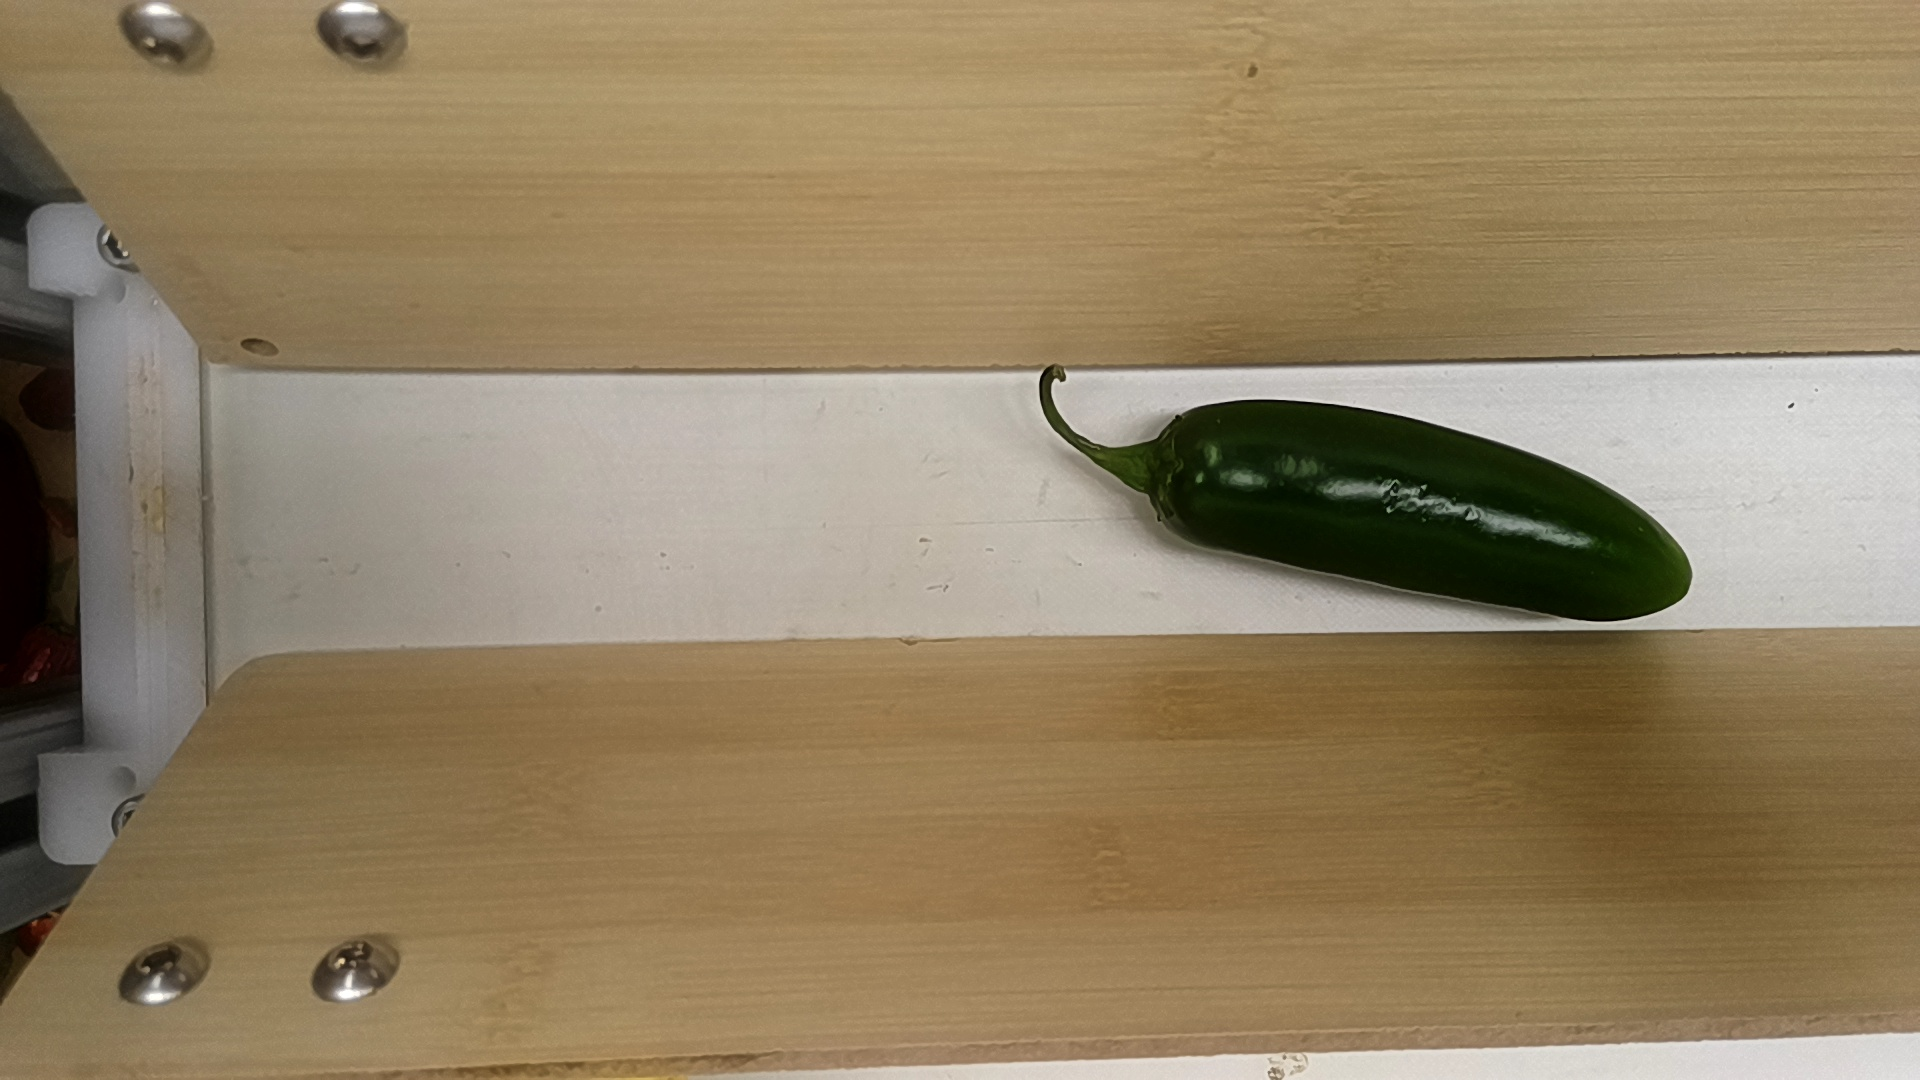Cut Point: (1121, 397, 1222, 554)
